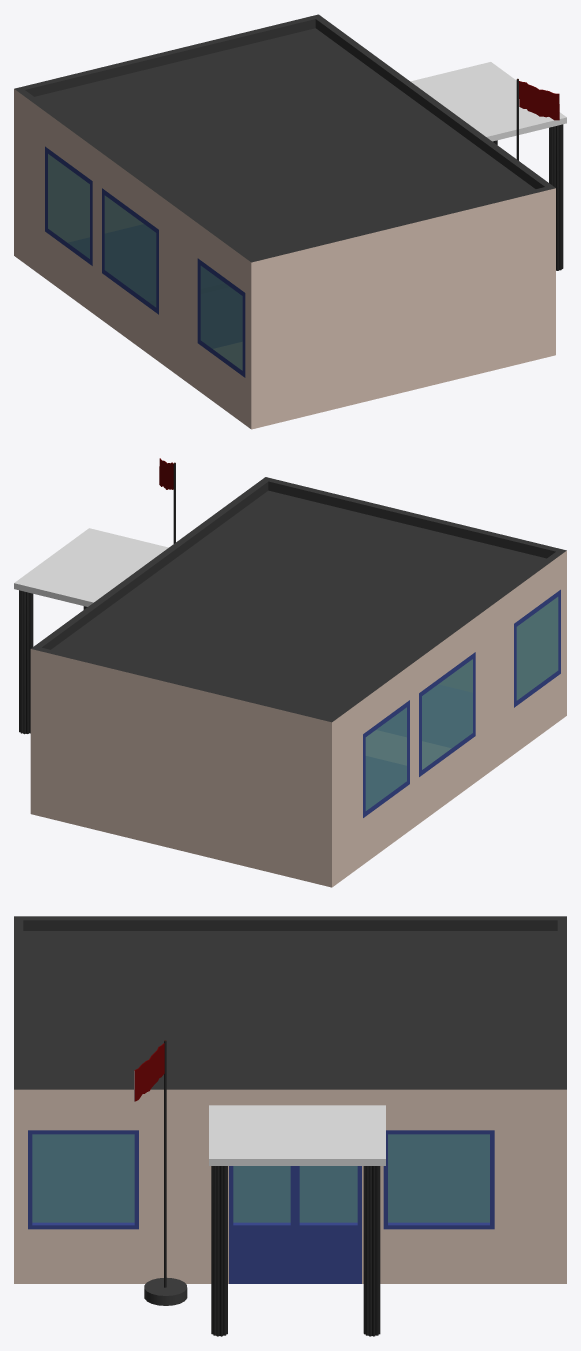
The model's file is School_Re.FBX.
3 renders of one model, top to bottom at view 1: azimuth 30°, elevation 25°; view 2: azimuth 150°, elevation 25°; view 3: azimuth 270°, elevation 25°, orthographic. The views are drawn at different scales.
Visible parts, largest first — view 1: Box003, Box004, Star003, Box002; view 2: Box003, Box004, Star002; view 3: Box003, Box004, Star002, Star003, Cylinder001, Box002, Cylinder002.
Boxes of the visible parts, x1,y1,x2,y2 form: Box003: (14, 14, 555, 429); Box004: (410, 62, 566, 141); Star003: (549, 124, 563, 270); Box002: (518, 81, 559, 120); Box003: (30, 477, 566, 887); Box004: (14, 528, 168, 606); Star002: (19, 590, 33, 734); Box003: (14, 916, 566, 1283); Box004: (209, 1105, 385, 1165); Star002: (363, 1166, 380, 1336); Star003: (211, 1166, 227, 1336); Cylinder001: (144, 1278, 187, 1305); Box002: (134, 1043, 164, 1101); Cylinder002: (164, 1040, 166, 1287).
Size of the model in its own units: 242 by 128 by 249.
